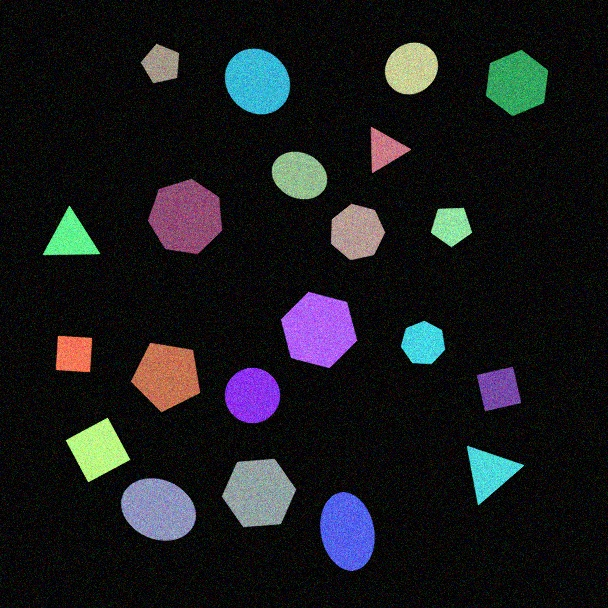Circulo: (224, 48, 291, 115), (224, 367, 281, 424), (384, 42, 439, 95)
Elipse: (120, 477, 197, 542), (319, 491, 376, 572), (271, 151, 328, 200)
Heptagono: (147, 178, 223, 255), (330, 203, 386, 261), (400, 320, 446, 365)
Hexagono: (280, 291, 358, 369), (221, 458, 297, 528), (485, 49, 549, 117)
Pentagono: (130, 342, 201, 413), (430, 207, 473, 248), (140, 43, 180, 84)
Quadrado: (65, 417, 131, 483), (476, 366, 522, 412), (55, 335, 93, 373)
Triangulo: (466, 445, 525, 506), (42, 206, 101, 256), (370, 126, 412, 174)
